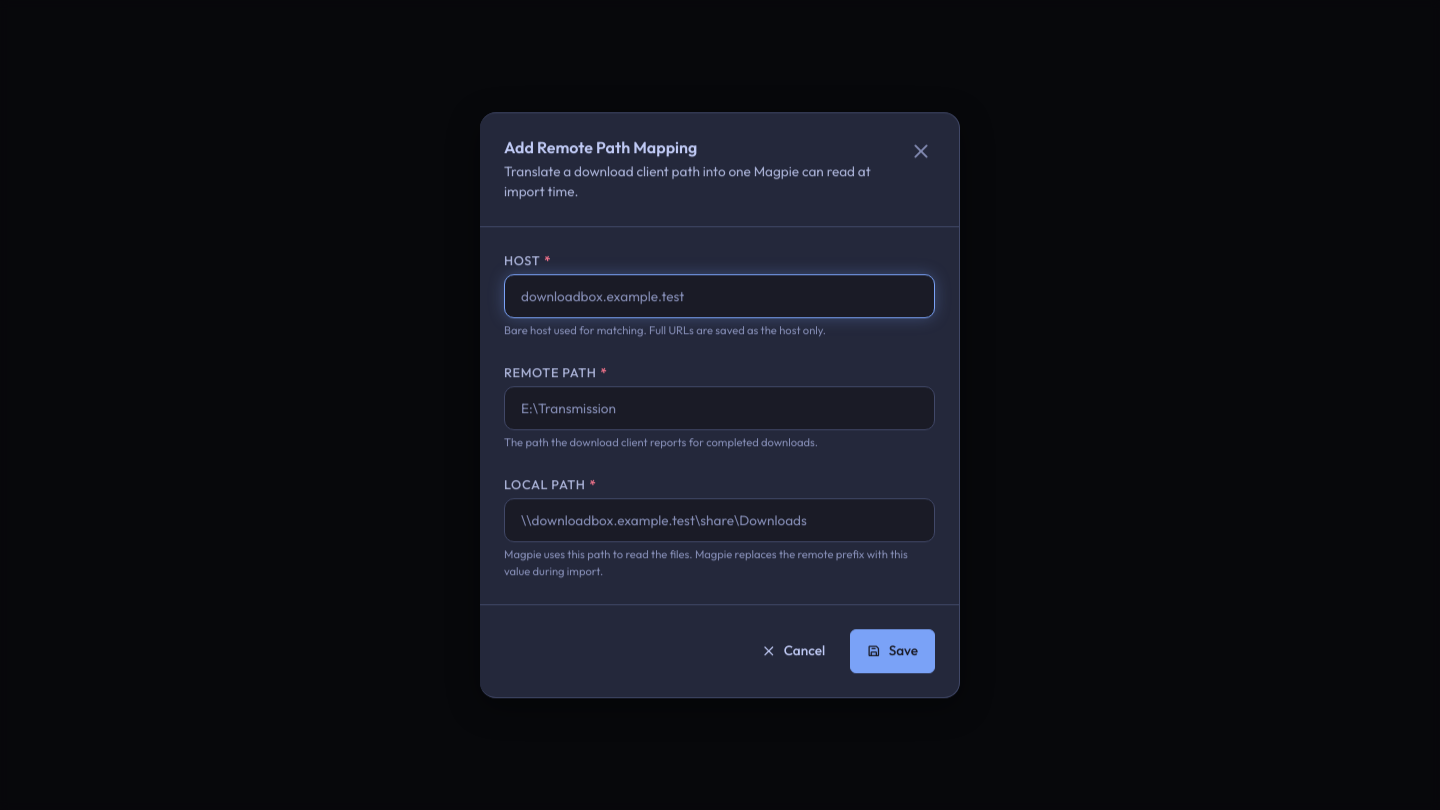
RemotePathMappingForm › shows validation errors when required fields are empty
Click the button "Save" at (893, 651), box [850,629,935,673]
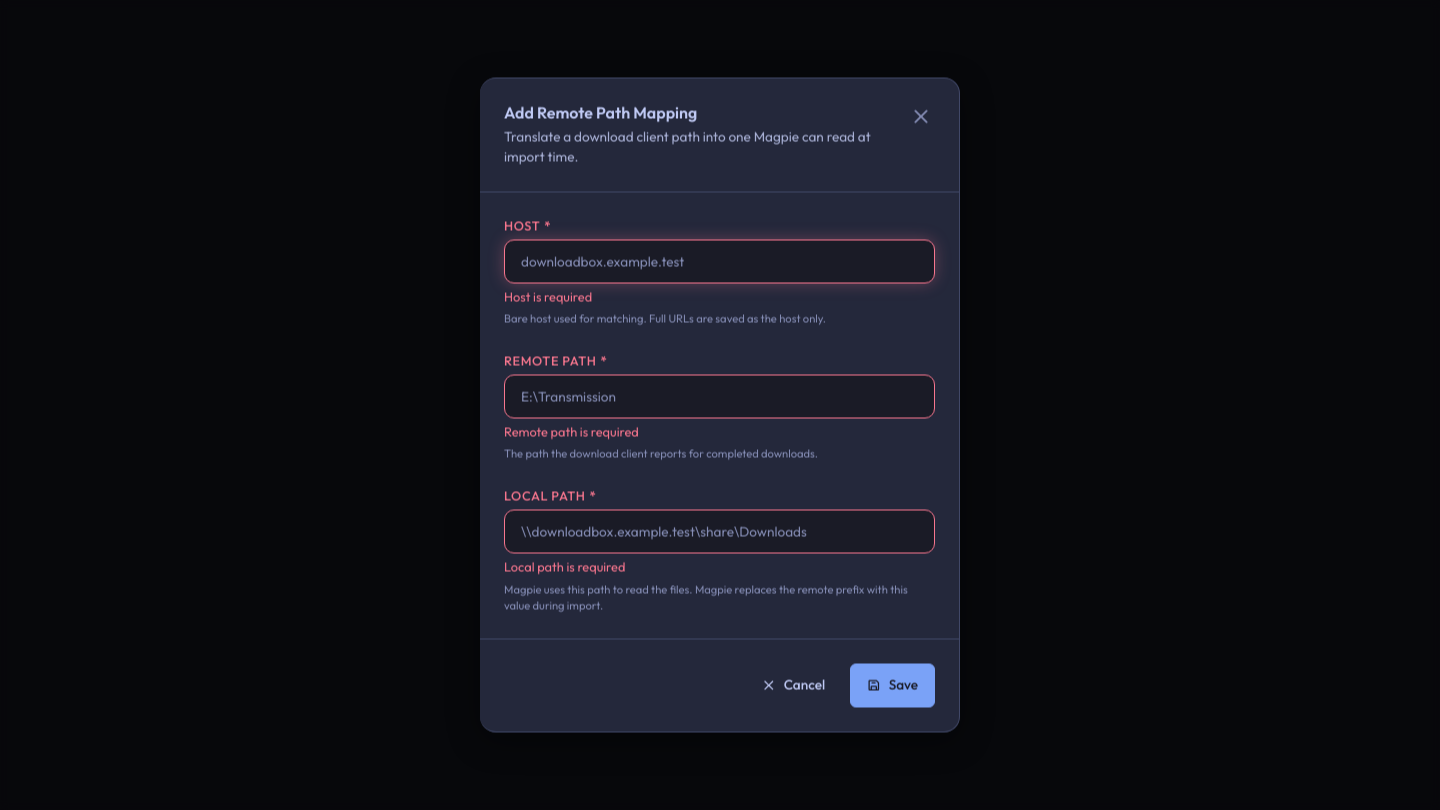
Expected: the text "Host is required" is shown, [504,288,592,304]
Expected: the text "Remote path is required" is shown, [504,424,639,440]
Expected: the text "Local path is required" is shown, [504,559,625,575]
